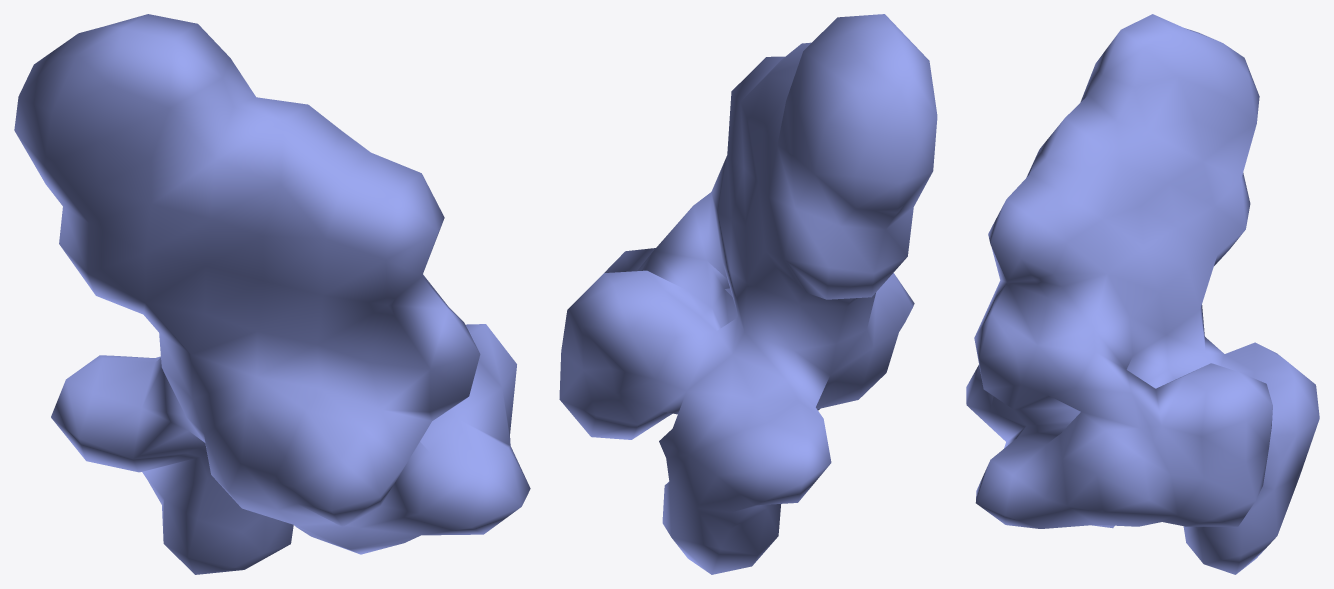
Rendered from cytosine.obj.
The picture shows the model from 3 angles, left to right: view 1: azimuth 30°, elevation 25°; view 2: azimuth 150°, elevation 25°; view 3: azimuth 270°, elevation 25°; orthographic projection. The views are drawn at different scales.
Visible parts, largest first — view 1: C.pdb_surfaces_1._; view 2: C.pdb_surfaces_1._; view 3: C.pdb_surfaces_1._.
Part boxes in pixels (x1,y1,x2,y2): C.pdb_surfaces_1._: (14, 14, 530, 574); C.pdb_surfaces_1._: (559, 14, 937, 574); C.pdb_surfaces_1._: (966, 14, 1319, 574).
Size of the model in its own units: 8 by 10.97 by 7.18.
